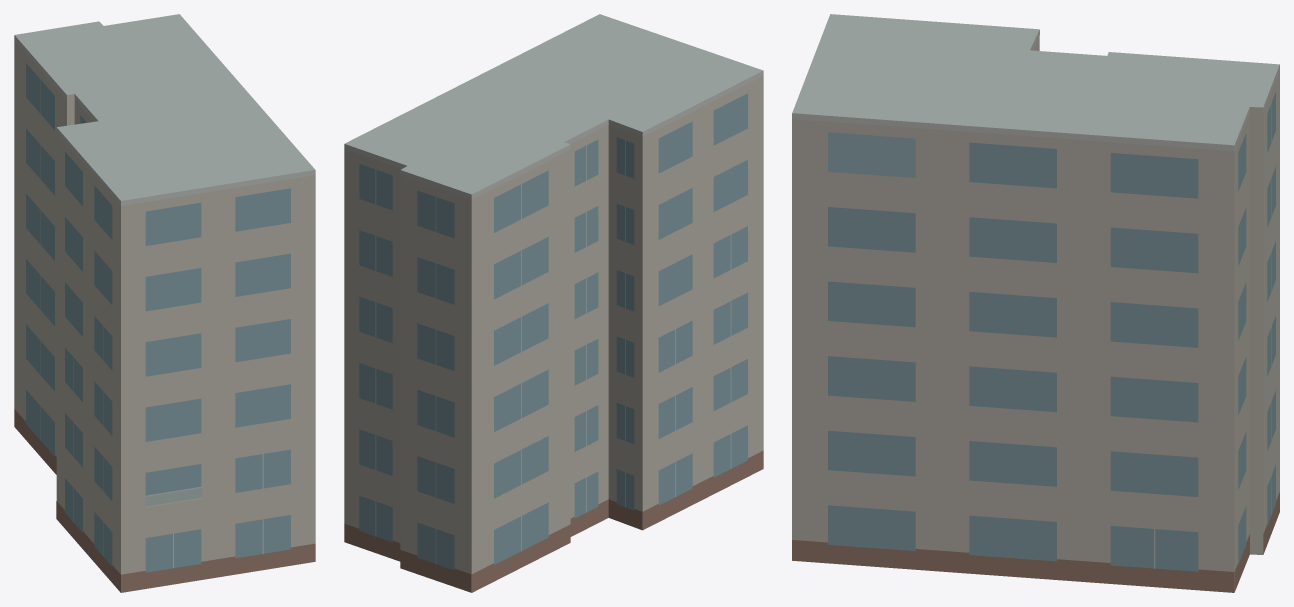
Rendered from survey-upis-32630796.glb.
3 views of the same model, side by side, from view 1: azimuth 30°, elevation 25°; view 2: azimuth 150°, elevation 25°; view 3: azimuth 270°, elevation 25° (orthographic). The views are drawn at different scales.
Parts seen in each view (by area): view 1: survey-upis-32630796.tmp; view 2: survey-upis-32630796.tmp; view 3: survey-upis-32630796.tmp.
Boxes of the visible parts, x1,y1,x2,y2 form: survey-upis-32630796.tmp: (14,14,315,592); survey-upis-32630796.tmp: (344,14,763,592); survey-upis-32630796.tmp: (792,14,1279,592).
Bounding box in the file's own units: 11.74 × 18.65 × 18.43.
